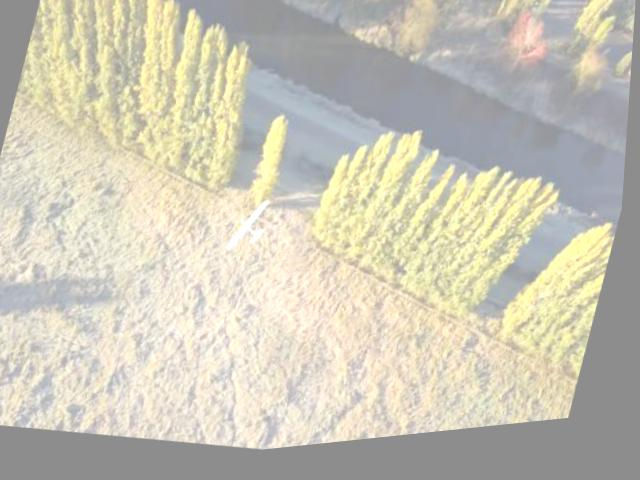uav: (220, 190, 286, 266)
